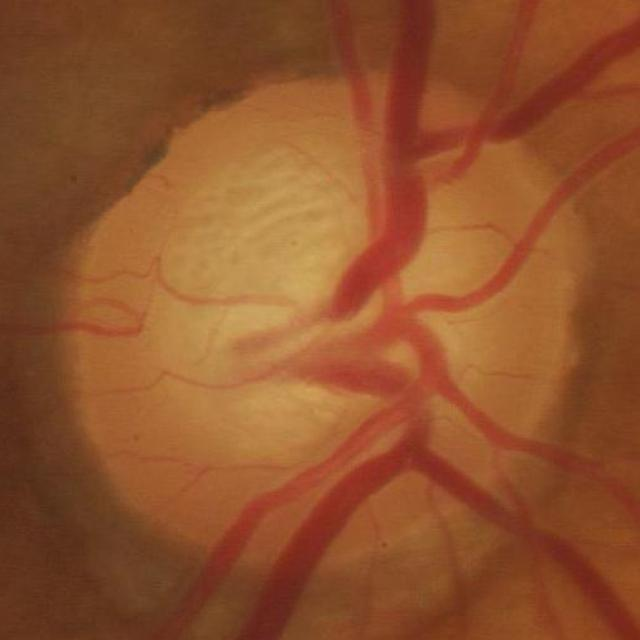OC: (215, 196, 460, 413)
OD: (70, 60, 592, 564)
